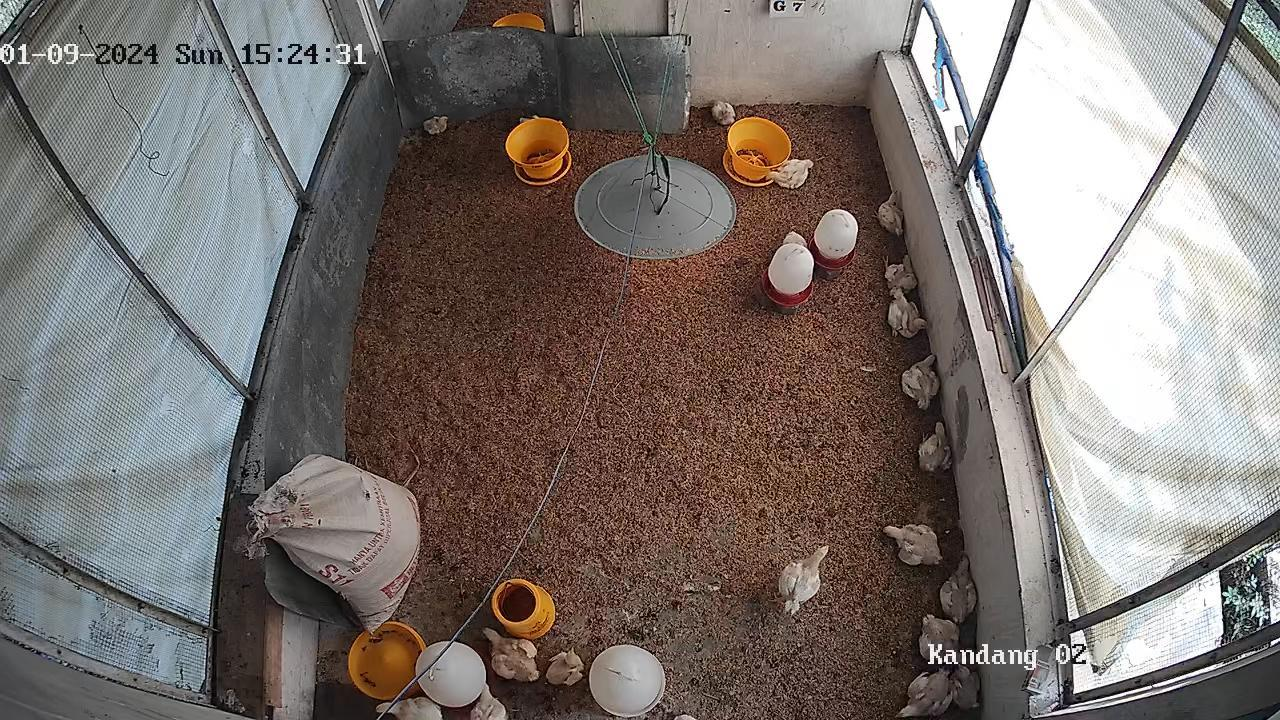chicken: (777, 545, 829, 616), (483, 626, 540, 683), (901, 667, 953, 720), (883, 523, 939, 571), (918, 616, 972, 664), (901, 349, 941, 412), (941, 556, 977, 624), (884, 290, 929, 338), (917, 422, 951, 478), (950, 664, 983, 716), (880, 251, 915, 296), (377, 697, 443, 720), (766, 158, 813, 189), (546, 649, 584, 686), (875, 191, 903, 235), (467, 689, 503, 720), (711, 100, 735, 127), (424, 116, 451, 136), (781, 230, 809, 247)
